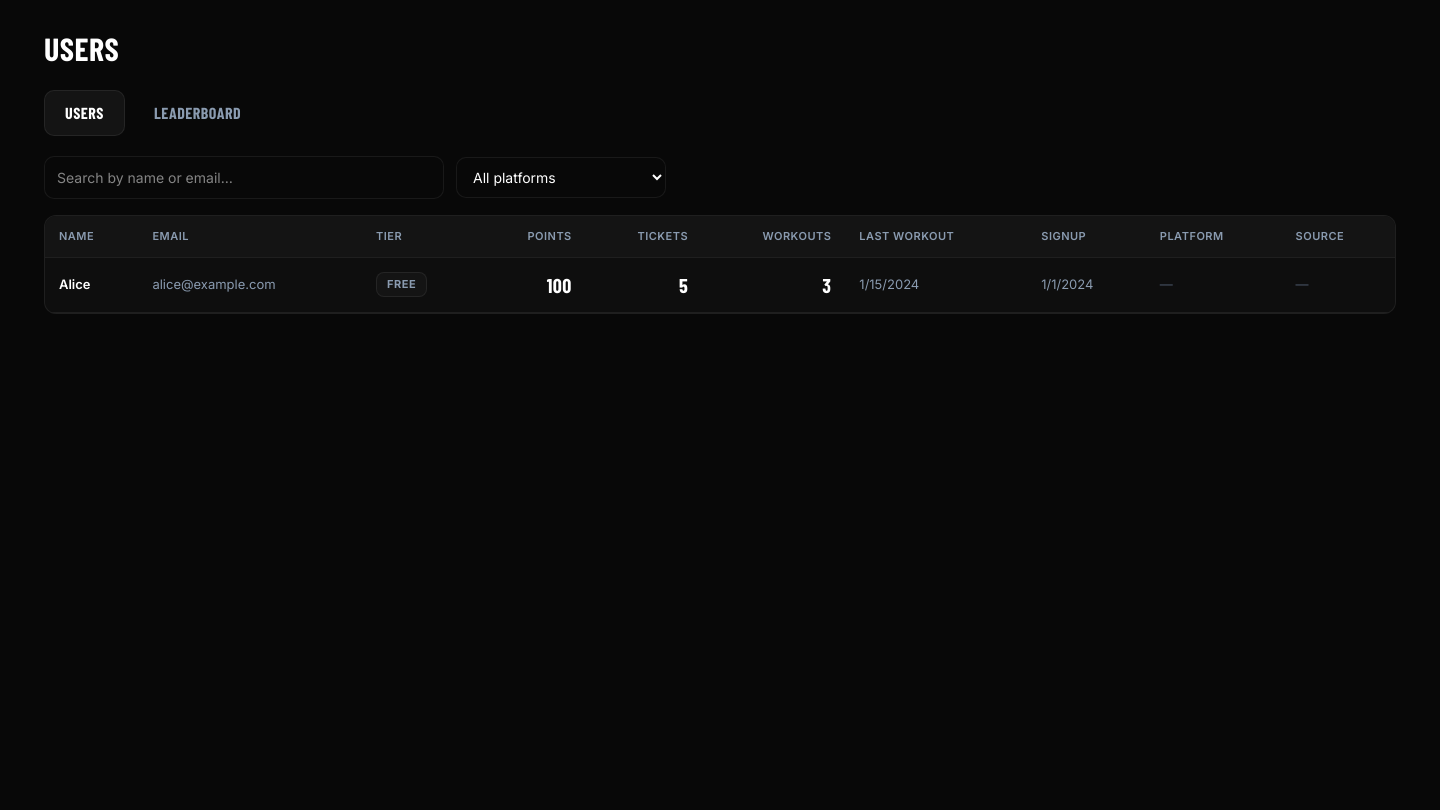
Test: UsersPage - re-auth gate on sensitive actions › rejects the action and surfaces an error if the operator cancels re-auth
Click the text "Alice": (720,284) [45,257,1395,312]
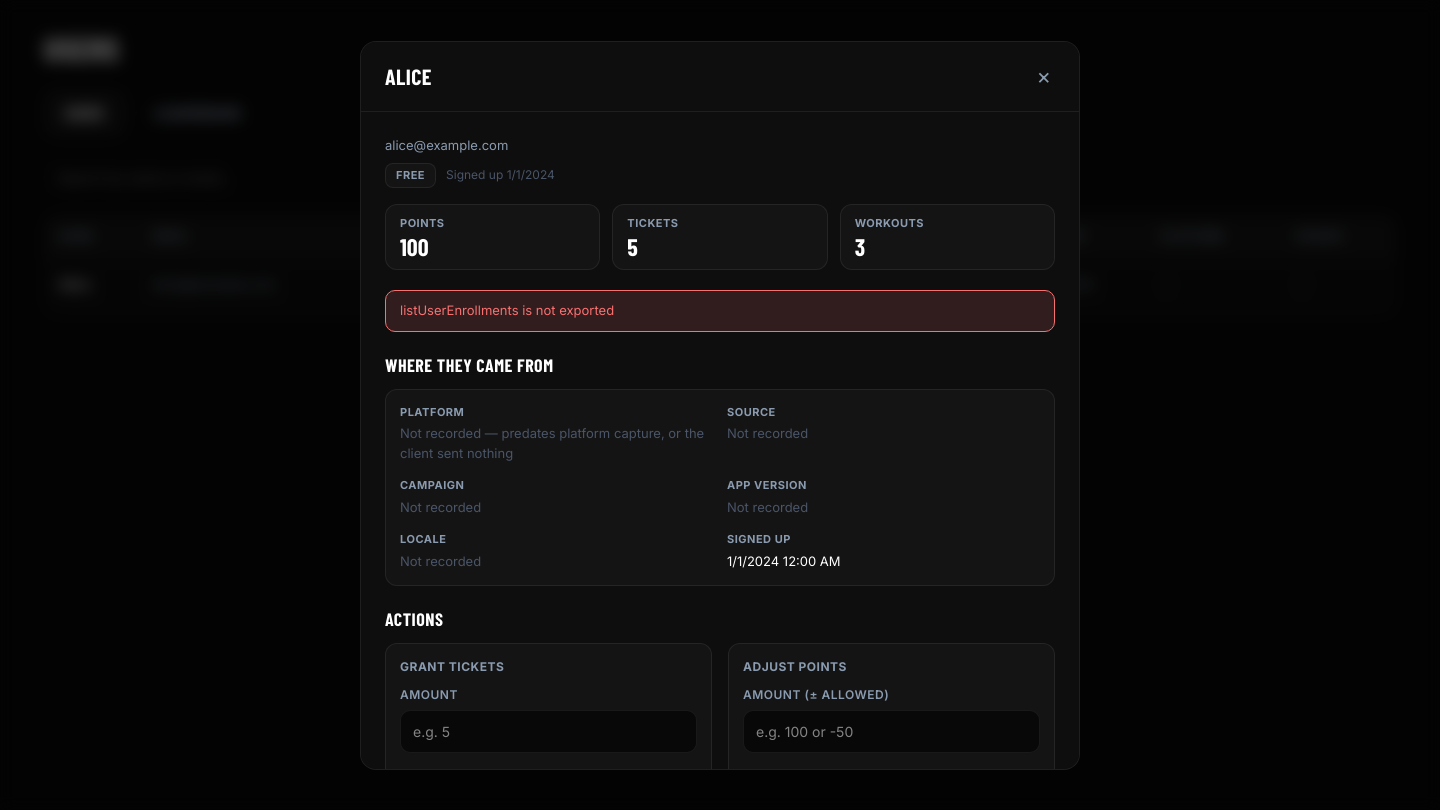
In the number field with placeholder "e.g. 5": (548,732) [400,710,697,753], type "10"
(page scrolled)
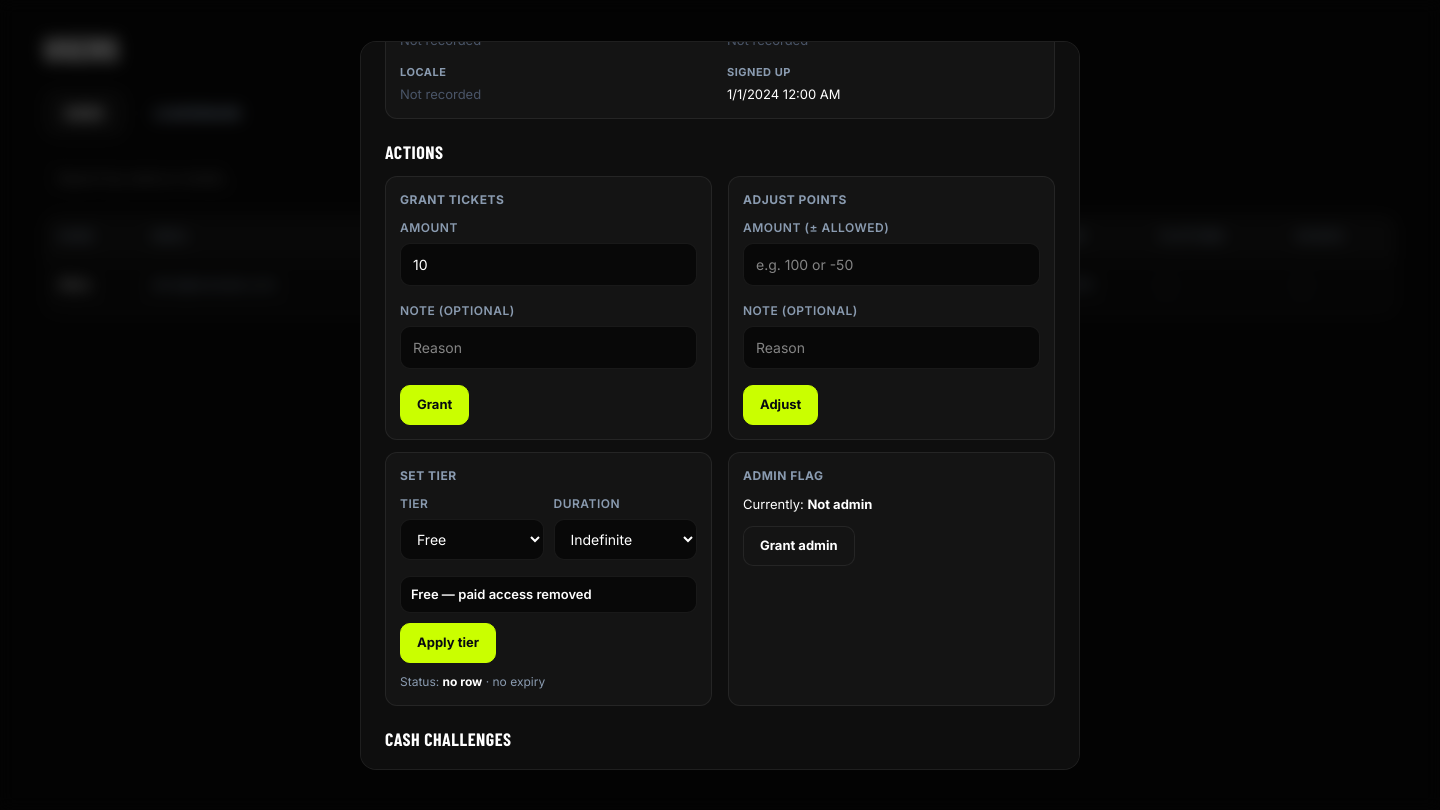
Click the button "Grant": (435,405) [400,385,469,424]
(page scrolled)
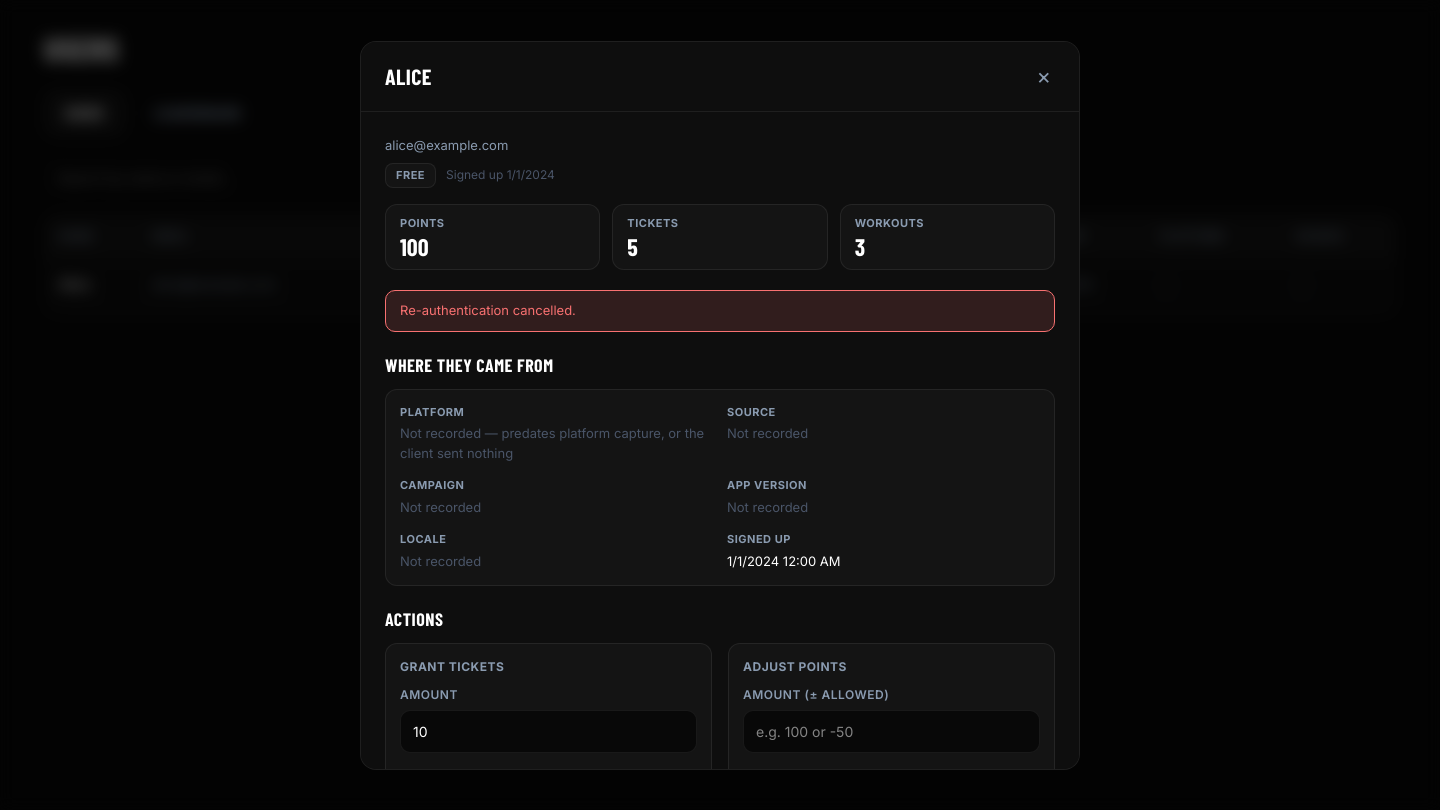
Check: the text "Re-authentication cancelled." is shown, box [385,290,1055,332]
